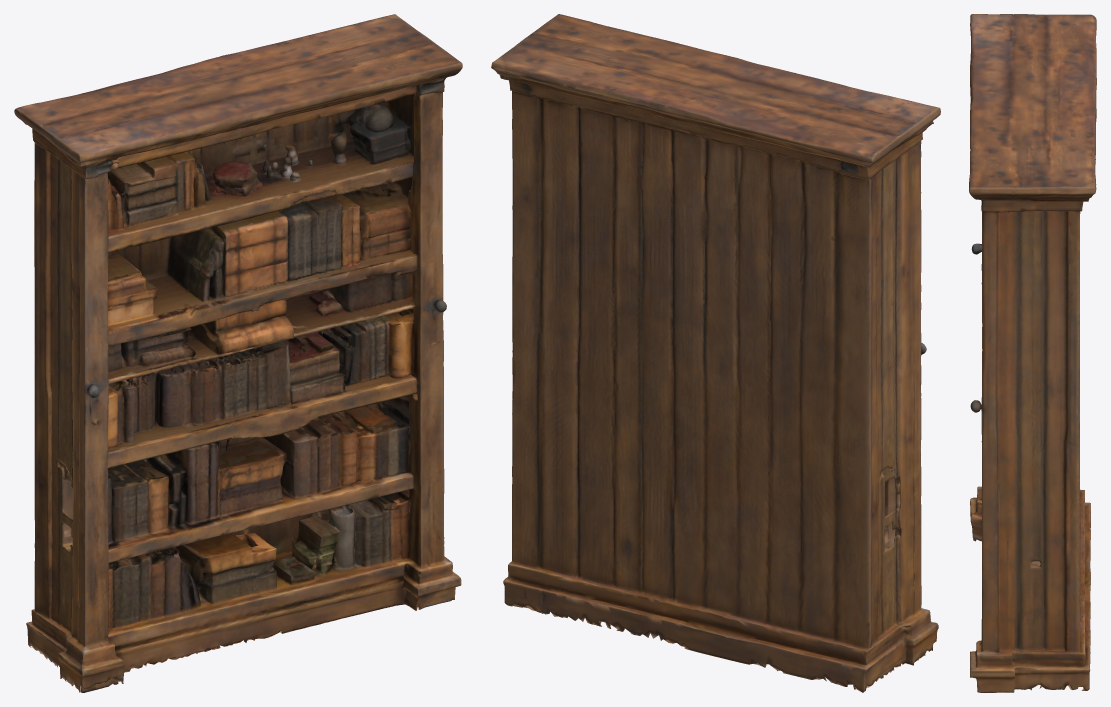
File: shelf.glb
3 views of the same model, side by side, from view 1: azimuth 30°, elevation 25°; view 2: azimuth 150°, elevation 25°; view 3: azimuth 270°, elevation 25° (orthographic). The views are drawn at different scales.
Bounding box in the file's own units: 1.48 × 2 × 0.4564.
Materials: 1 (1 with a texture image).
